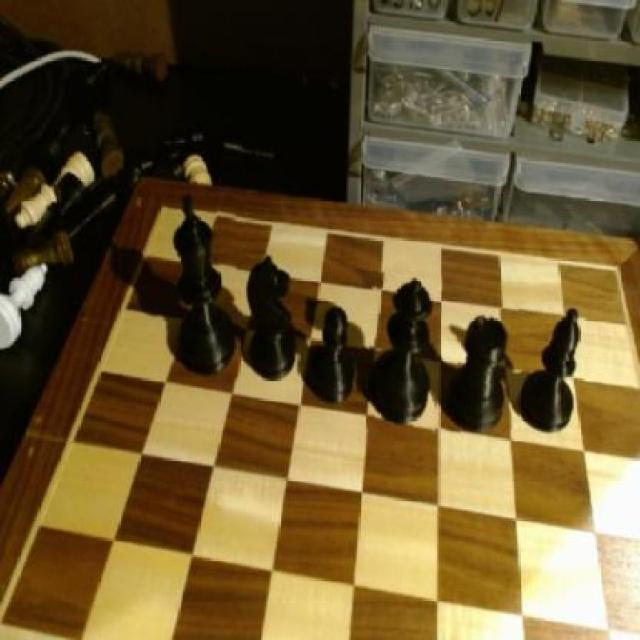bishop: (520, 306, 586, 439)
black-bishop: (171, 194, 240, 381)
black-king: (243, 255, 300, 382)
black-knight: (311, 301, 364, 407)
black-pawn: (368, 272, 440, 433)
black-queen: (443, 311, 513, 433)
